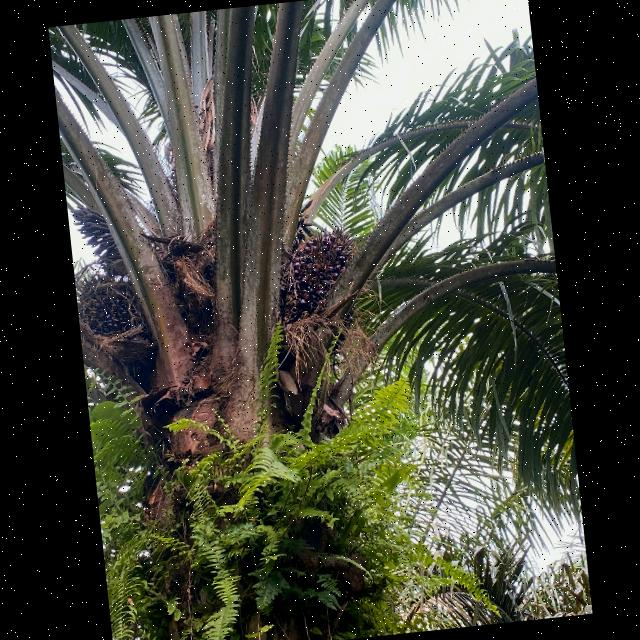Unripe: (289, 230, 351, 313), (83, 282, 141, 335)
